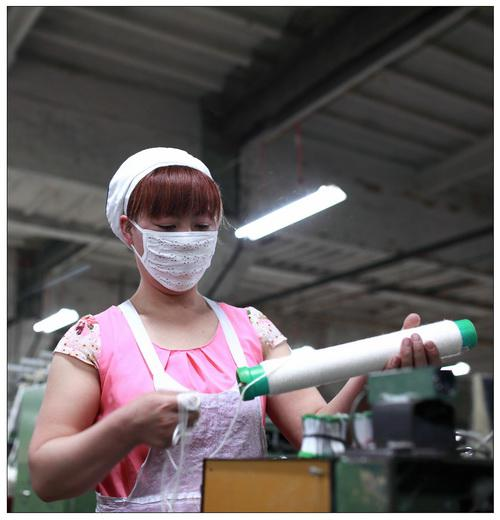OK: (142, 212, 213, 283)
